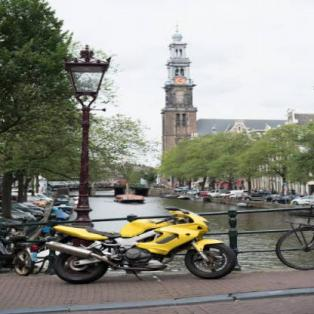Motocicleta: (40, 205, 236, 280)
